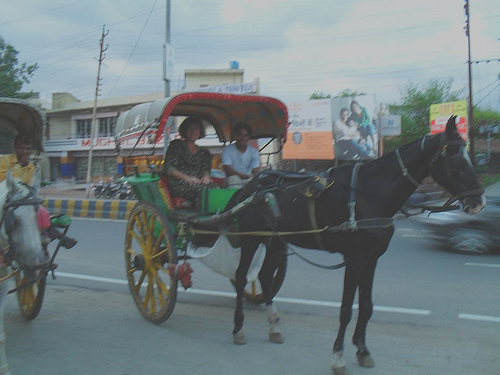horse: (221, 113, 488, 375)
